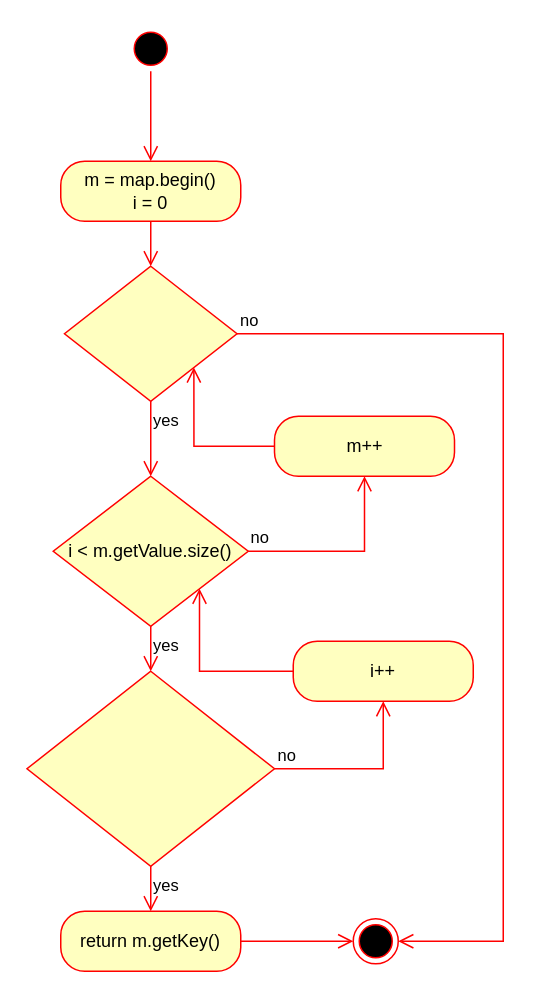
Image size: 545x998. Some labels were removed from this diagram. Here are the shapes that lost their labels. From the top down, the box of each, then its label:
(63, 265, 237, 401): m != map.end()
(26, 670, 274, 866): m.getValue.get(i).equals(pos)
